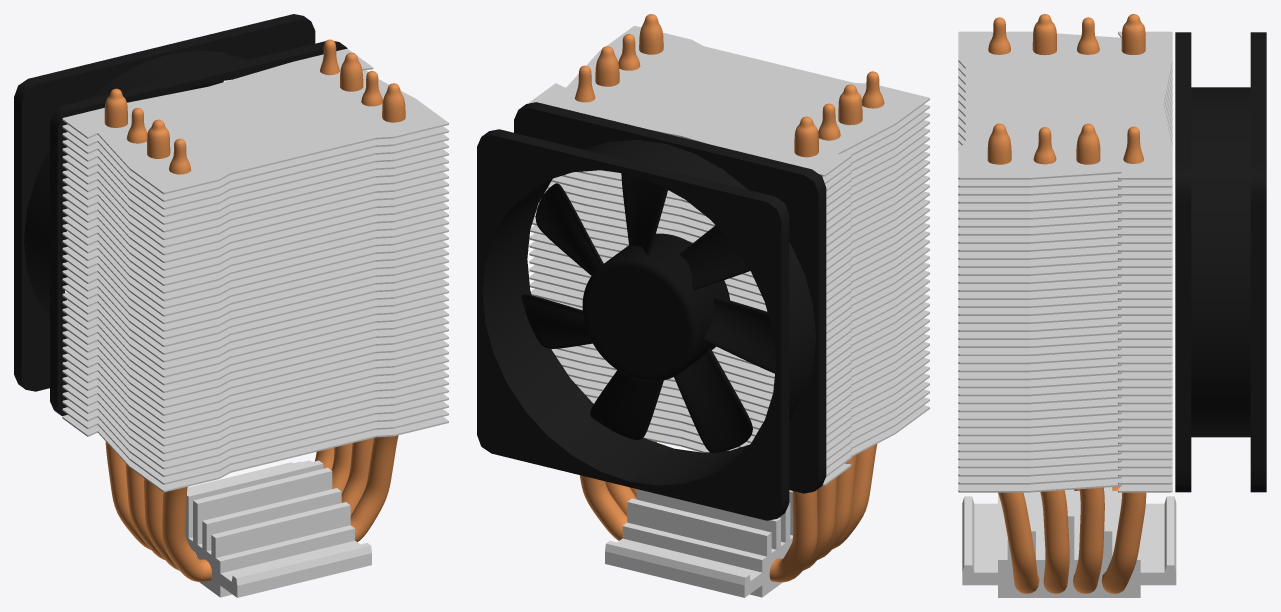
File: cooler_master_cpu_cooler.glb
3 views of the same model, side by side, from view 1: azimuth 30°, elevation 25°; view 2: azimuth 150°, elevation 25°; view 3: azimuth 270°, elevation 25° (orthographic). The views are drawn at different scales.
Parts seen in each view (by area): view 1: Object_4, Object_6, Object_5, Object_3; view 2: Object_4, Object_6, Object_2, Object_3, Object_5; view 3: Object_4, Object_6, Object_3, Object_5.
Boxes of the visible parts, x1=… form: Object_4: x1=62, y1=49, x2=448, y2=492; Object_6: x1=14, y1=14, x2=347, y2=416; Object_5: x1=185, y1=460, x2=371, y2=597; Object_3: x1=104, y1=39, x2=405, y2=581; Object_4: x1=529, y1=26, x2=929, y2=485; Object_6: x1=477, y1=102, x2=826, y2=520; Object_2: x1=521, y1=173, x2=775, y2=452; Object_3: x1=574, y1=14, x2=884, y2=582; Object_5: x1=605, y1=489, x2=792, y2=597; Object_4: x1=958, y1=31, x2=1172, y2=492; Object_6: x1=1175, y1=32, x2=1266, y2=492; Object_3: x1=987, y1=14, x2=1146, y2=593; Object_5: x1=962, y1=487, x2=1176, y2=597.
Bounding box in the file's own units: 2.93 × 4.48 × 2.53.
